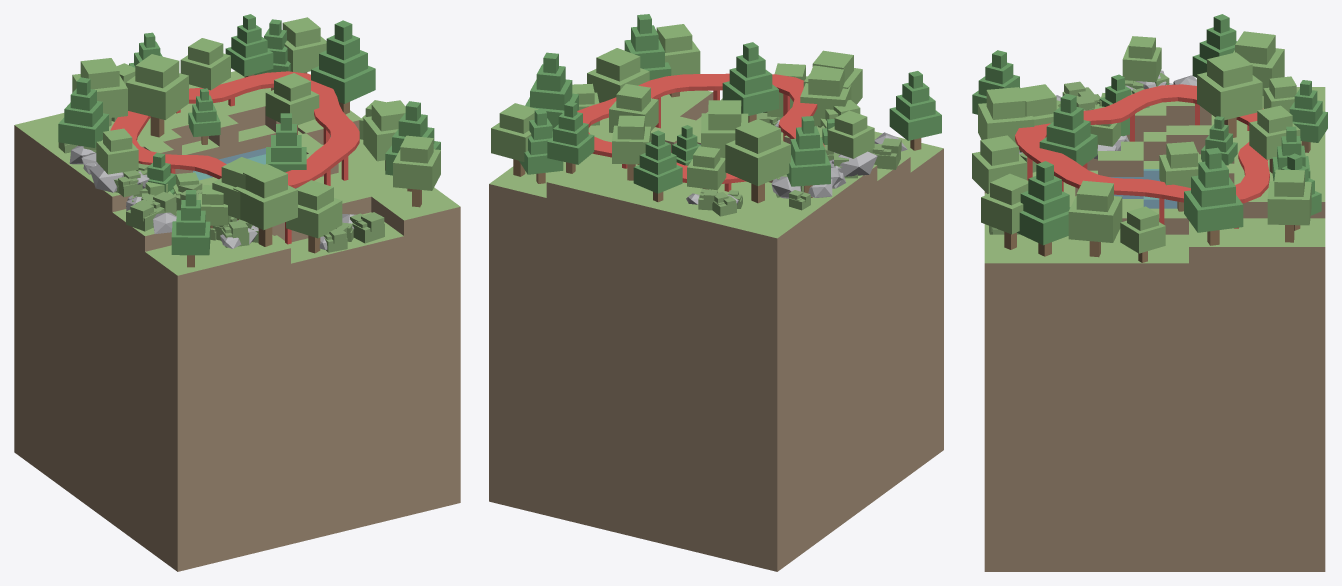
File: block_26_wetlands_100.glb
3 views of the same model, side by side, from view 1: azimuth 30°, elevation 25°; view 2: azimuth 150°, elevation 25°; view 3: azimuth 270°, elevation 25° (orthographic). The views are drawn at different scales.
Parts seen in each view (by area): view 1: Patch_UpperRight_b26_WL, WL_Walk_26, WL_Clu_26_008, WL_Clu_26_025, WL_Clu_26_035, WL_Clu_26_067, WL_Clu_26_026, WL_Clu_26_046, WL_Clu_26_051, WL_Clu_26_059, WL_Clu_26_090, WL_Clu_26_087 (+14 smaller); view 2: Patch_UpperRight_b26_WL, WL_Walk_26, WL_Clu_26_090, WL_Clu_26_002, WL_Clu_26_051, WL_Clu_26_026, WL_Clu_26_024, WL_Clu_26_091, WL_Clu_26_025, WL_Clu_26_038, WL_Clu_26_088, WL_Clu_26_050 (+13 smaller); view 3: Patch_UpperRight_b26_WL, WL_Walk_26, WL_Clu_26_025, WL_Clu_26_008, WL_Clu_26_034, WL_Clu_26_038, WL_Clu_26_002, WL_Clu_26_088, WL_Clu_26_046, WL_Clu_26_035, WL_Clu_26_067, WL_Clu_26_090 (+15 smaller).
Boxes of the visible parts, x1,y1,x2,y2 form: Patch_UpperRight_b26_WL: (14, 71, 460, 571); WL_Walk_26: (110, 71, 359, 244); WL_Clu_26_008: (126, 54, 188, 137); WL_Clu_26_025: (311, 20, 375, 114); WL_Clu_26_035: (233, 164, 297, 246); WL_Clu_26_067: (286, 180, 342, 253); WL_Clu_26_026: (58, 77, 108, 147); WL_Clu_26_046: (393, 135, 440, 207); WL_Clu_26_051: (171, 190, 210, 267); WL_Clu_26_059: (265, 73, 319, 134); WL_Clu_26_090: (72, 58, 127, 117); WL_Clu_26_087: (180, 38, 230, 90); Patch_UpperRight_b26_WL: (489, 90, 943, 571); WL_Walk_26: (577, 73, 824, 191); WL_Clu_26_090: (725, 119, 790, 203); WL_Clu_26_002: (722, 42, 778, 122); WL_Clu_26_051: (889, 71, 941, 150); WL_Clu_26_026: (786, 116, 830, 197); WL_Clu_26_024: (633, 130, 682, 202); WL_Clu_26_091: (547, 101, 594, 173); WL_Clu_26_025: (525, 52, 578, 130); WL_Clu_26_038: (587, 48, 649, 102); WL_Clu_26_088: (491, 103, 538, 176); WL_Clu_26_050: (800, 65, 851, 125); Patch_UpperRight_b26_WL: (984, 87, 1325, 571); WL_Walk_26: (1015, 84, 1269, 228); WL_Clu_26_025: (1184, 147, 1243, 245); WL_Clu_26_008: (1197, 52, 1262, 137); WL_Clu_26_034: (1017, 161, 1070, 256); WL_Clu_26_038: (1068, 180, 1122, 257); WL_Clu_26_002: (1039, 93, 1097, 166); WL_Clu_26_088: (1267, 169, 1311, 242); WL_Clu_26_046: (981, 173, 1028, 249); WL_Clu_26_035: (978, 87, 1034, 143); WL_Clu_26_067: (972, 135, 1027, 193); WL_Clu_26_090: (1233, 31, 1284, 95).
Bounding box in the file's own units: 10.31 × 12.95 × 9.92.
